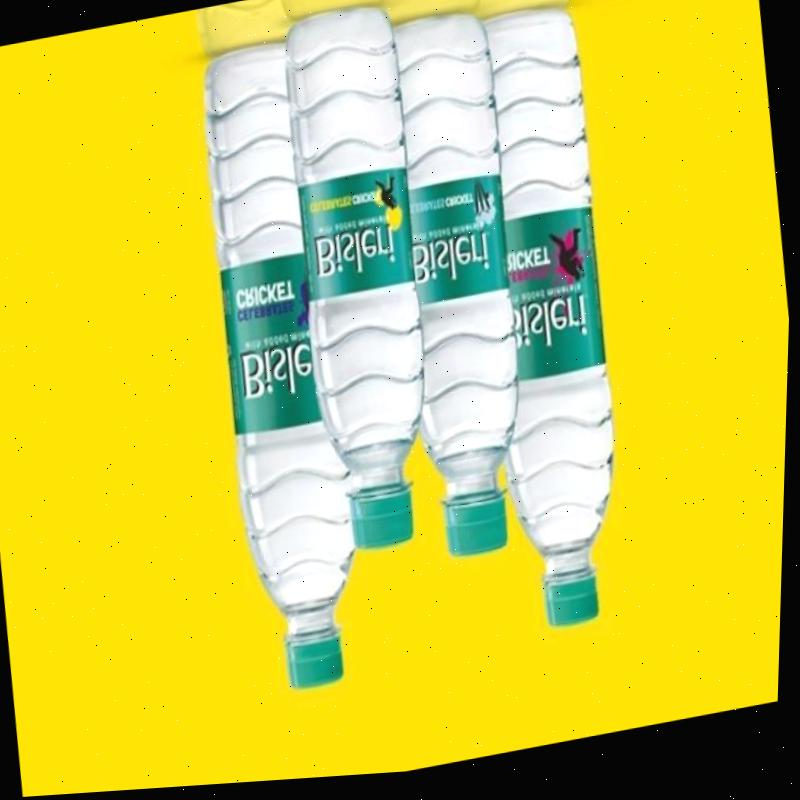botella: (183, 27, 388, 704), (450, 0, 652, 643), (267, 1, 457, 564), (366, 3, 553, 572)
